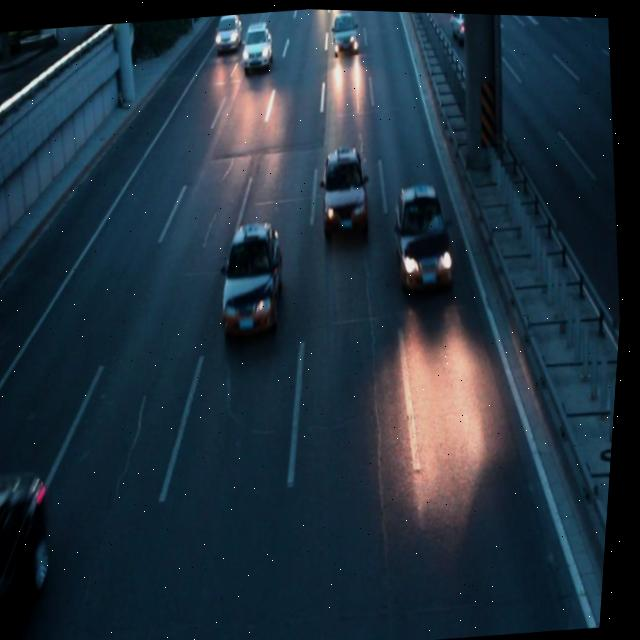car: (0, 463, 72, 640), (215, 215, 294, 337), (389, 178, 463, 291), (314, 142, 376, 236), (238, 18, 275, 68), (327, 9, 360, 55), (213, 12, 243, 48)
